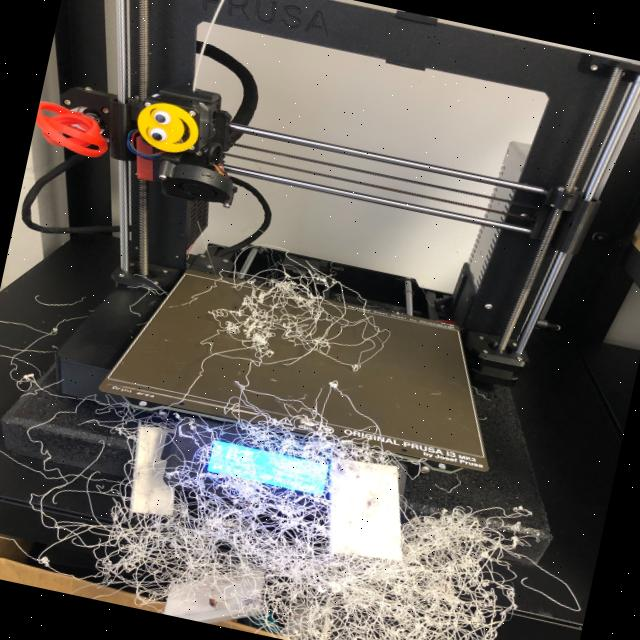spaghetti: (36, 351, 577, 640), (196, 230, 405, 387)
